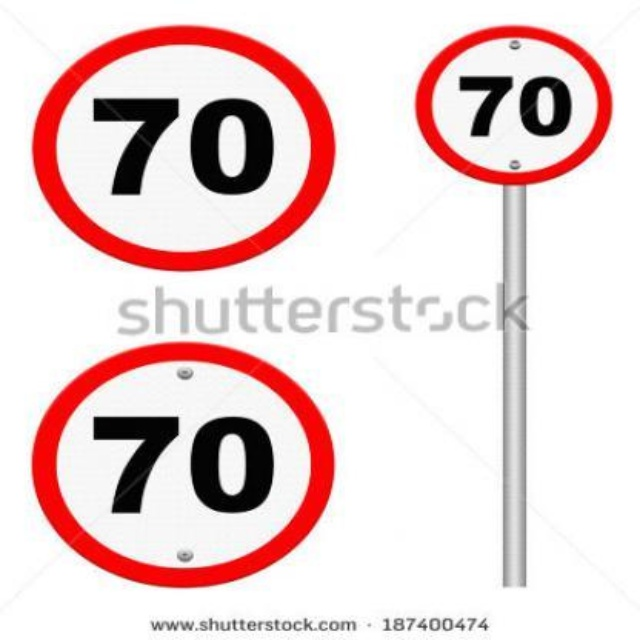Tốc độ tối đa cho phép 70km/h: (34, 342, 332, 587), (41, 27, 337, 268), (415, 25, 612, 184)
